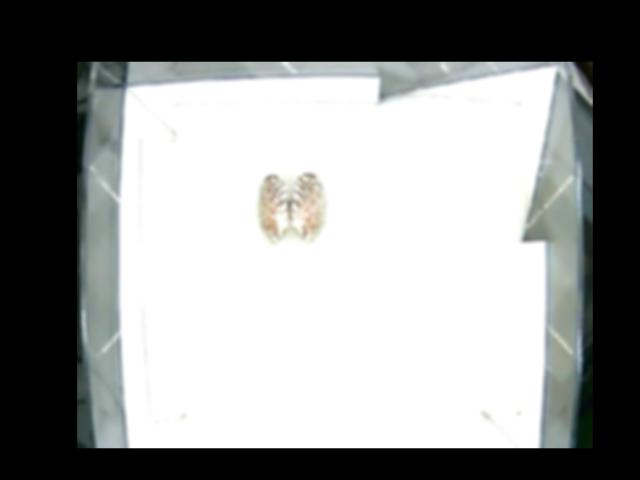Shell: (255, 172, 326, 246)
